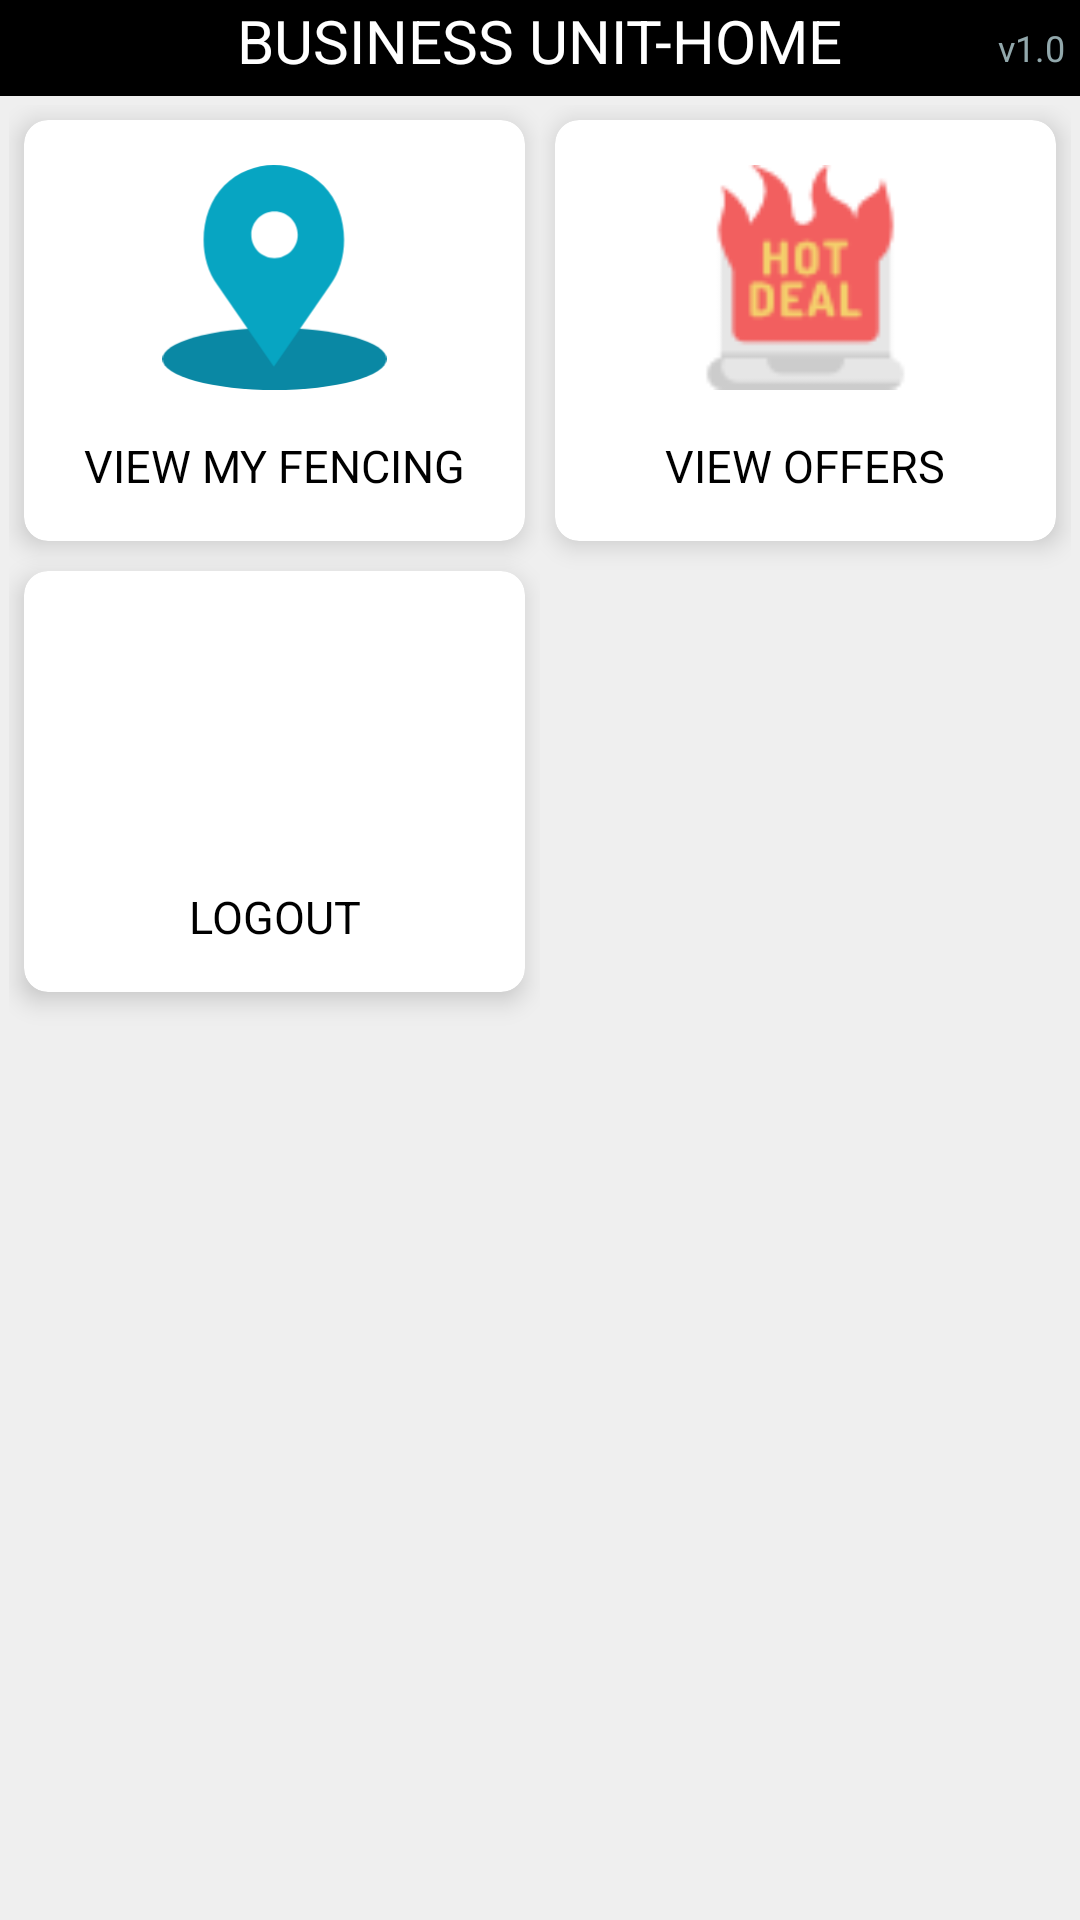

Icon click points for this 1080px×1920px phone screenshot, format (x=x, y=y):
sales: (x=804, y=277)
